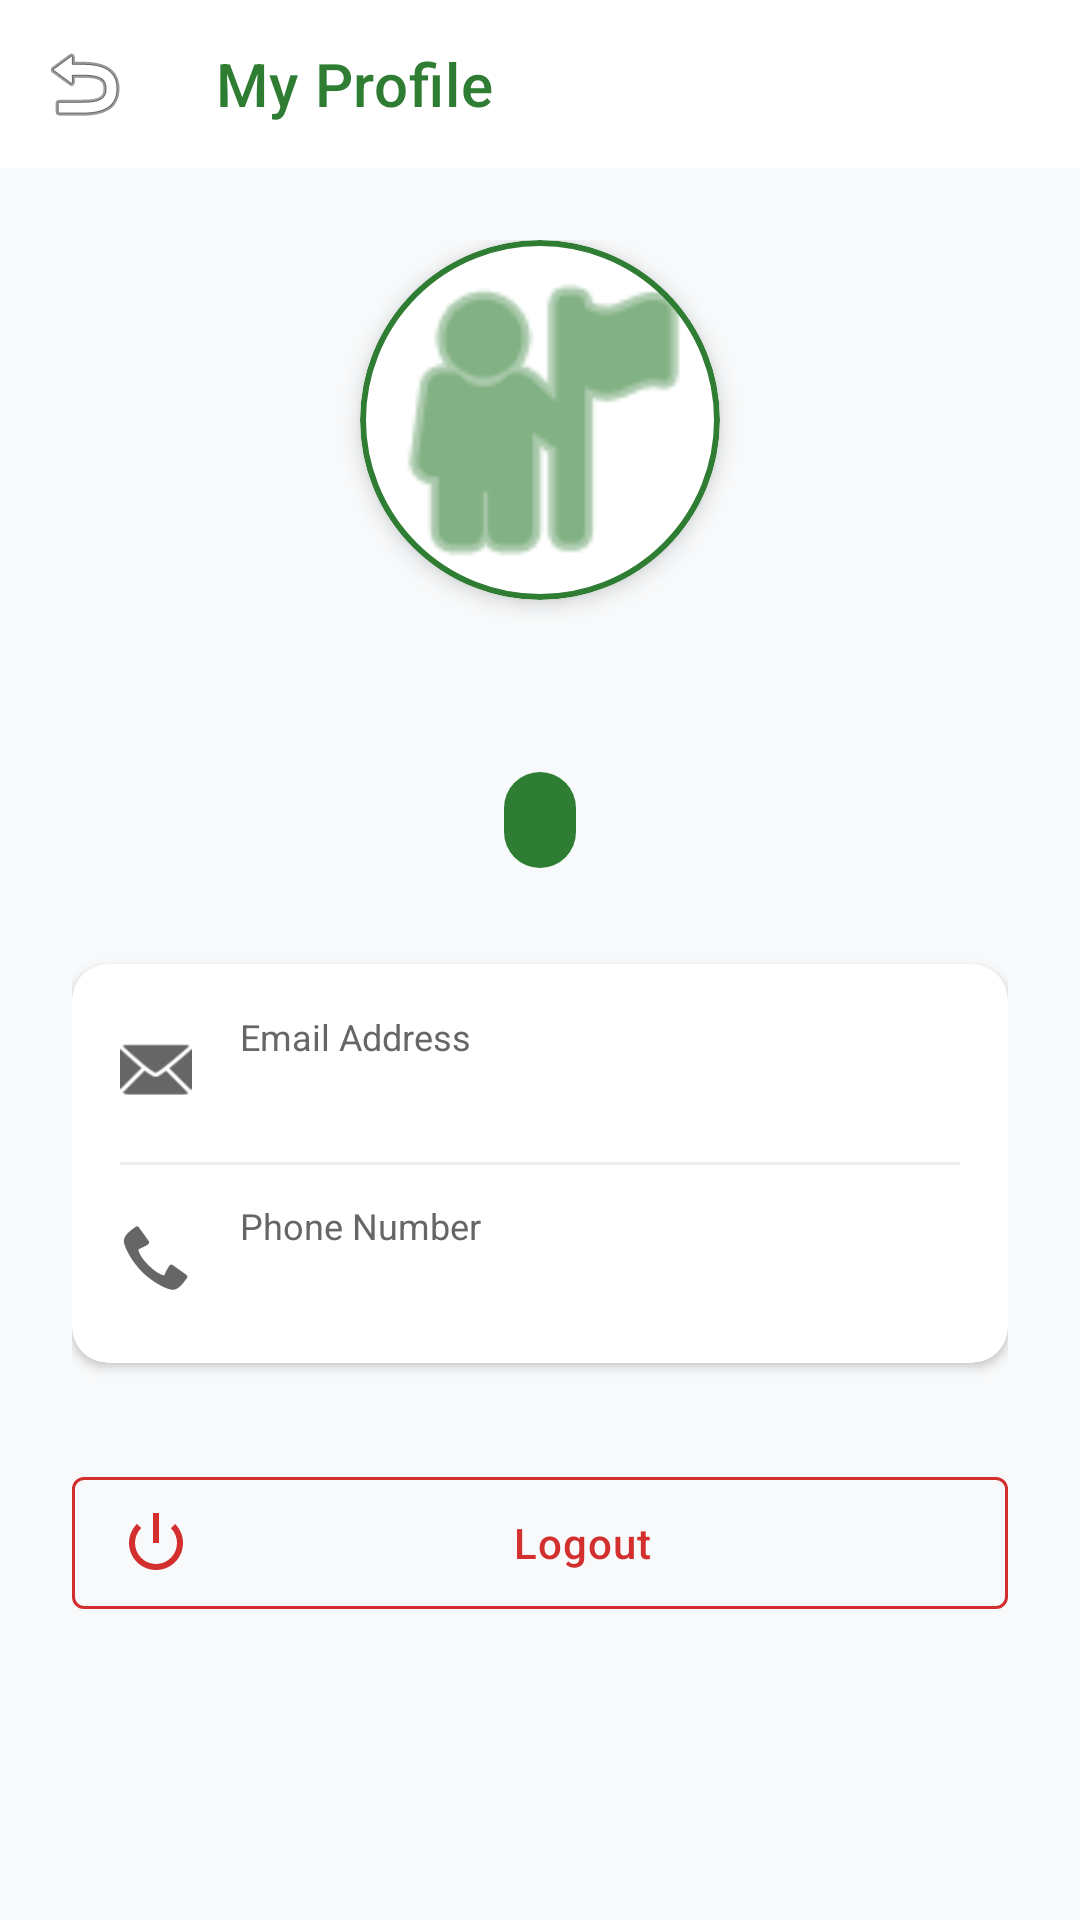

Where to tap for icons on this 1080 × 1920 app screen, as point (x, y):
phone call: point (156, 1258)
